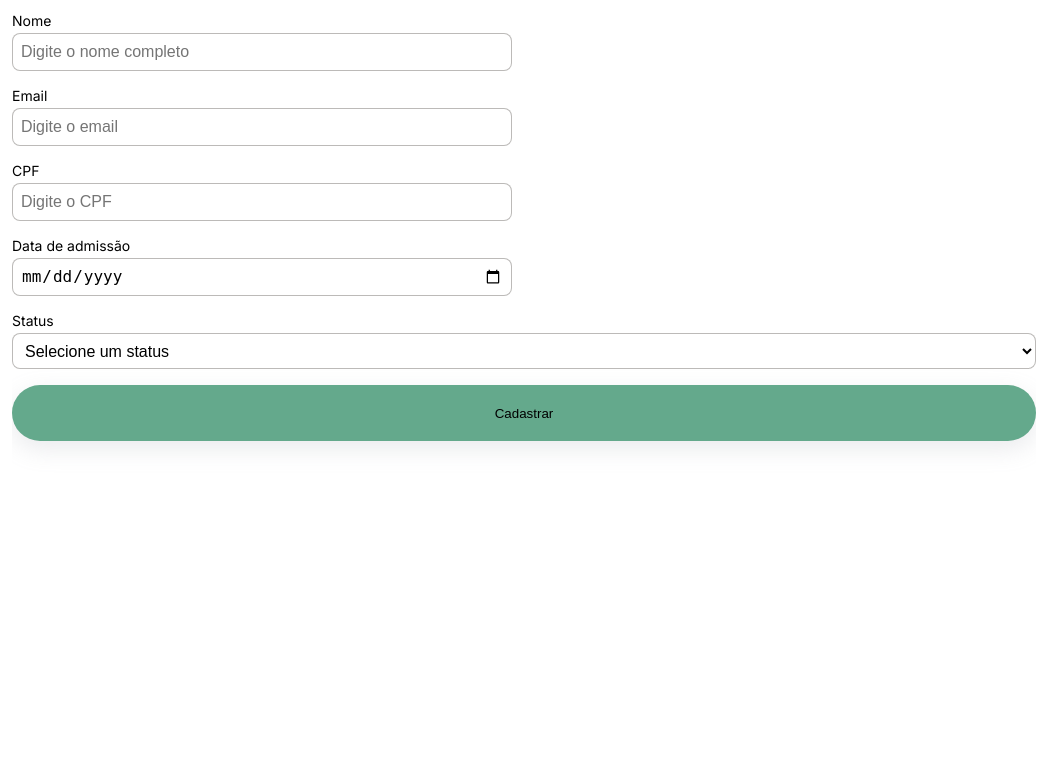
Scenario: FormUser Validations › should display invalid CPF error when CPF is not valid
Type "11111111111" into the field labelled "CPF" at x=262, y=202, box [12,183,512,221]
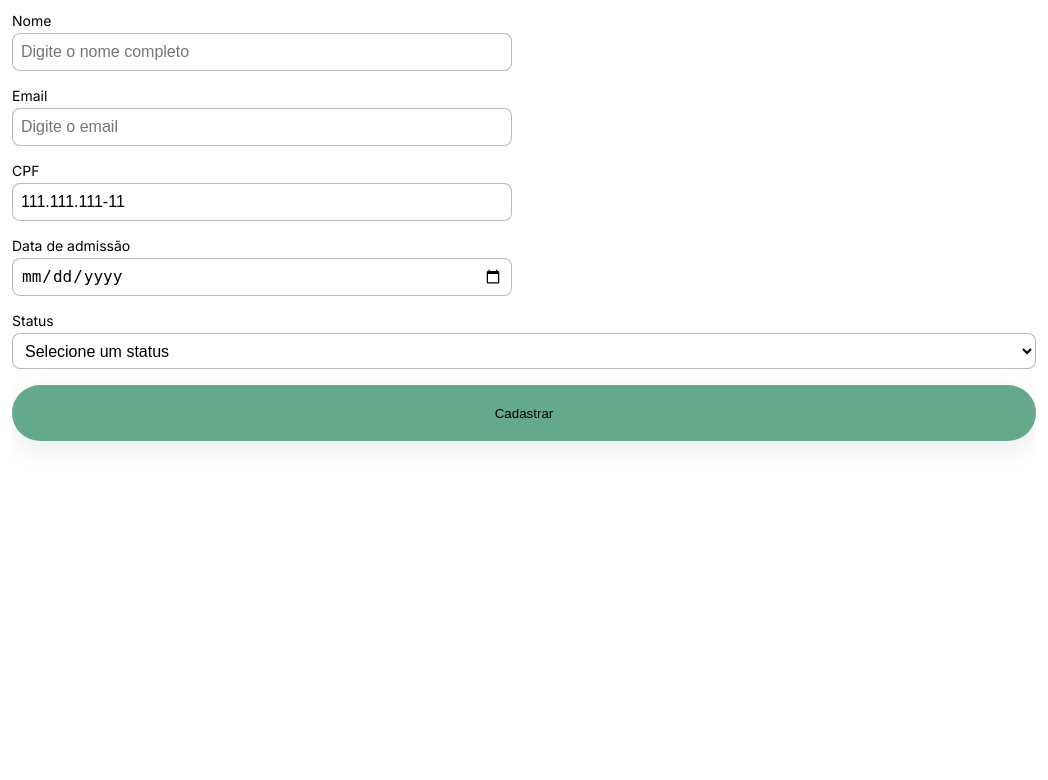
Click the button with test id "submit-button" at x=524, y=413, box [12,385,1036,441]
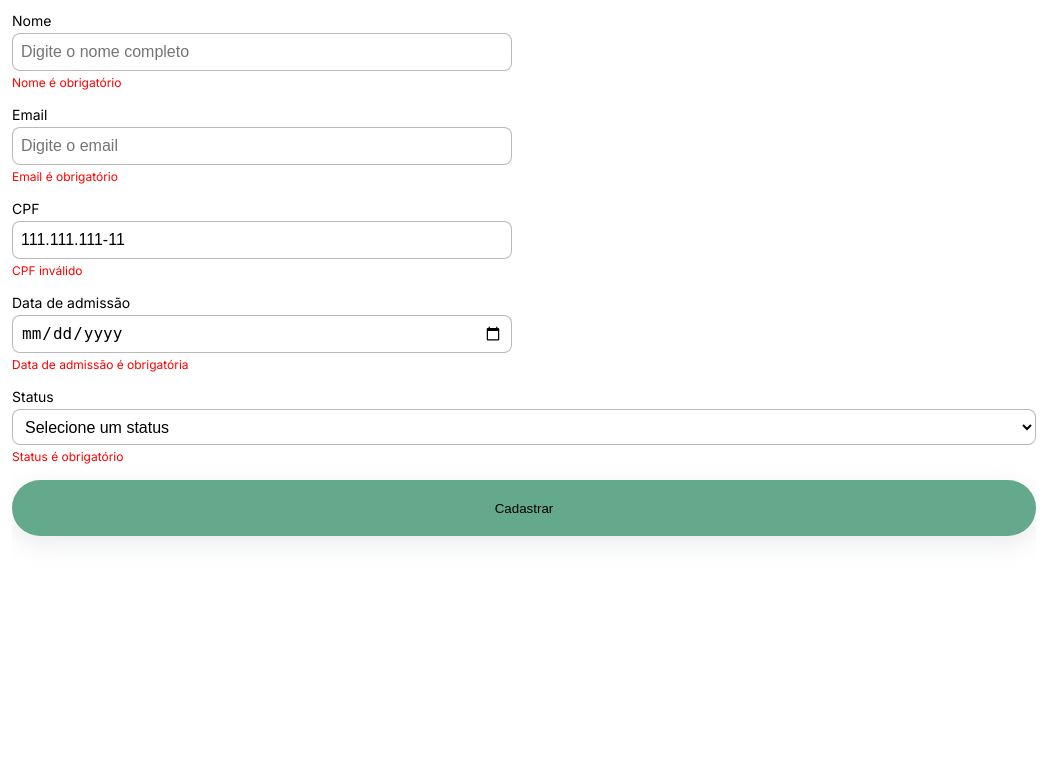
Expected: the text "CPF inválido" is shown, [12,263,82,278]
